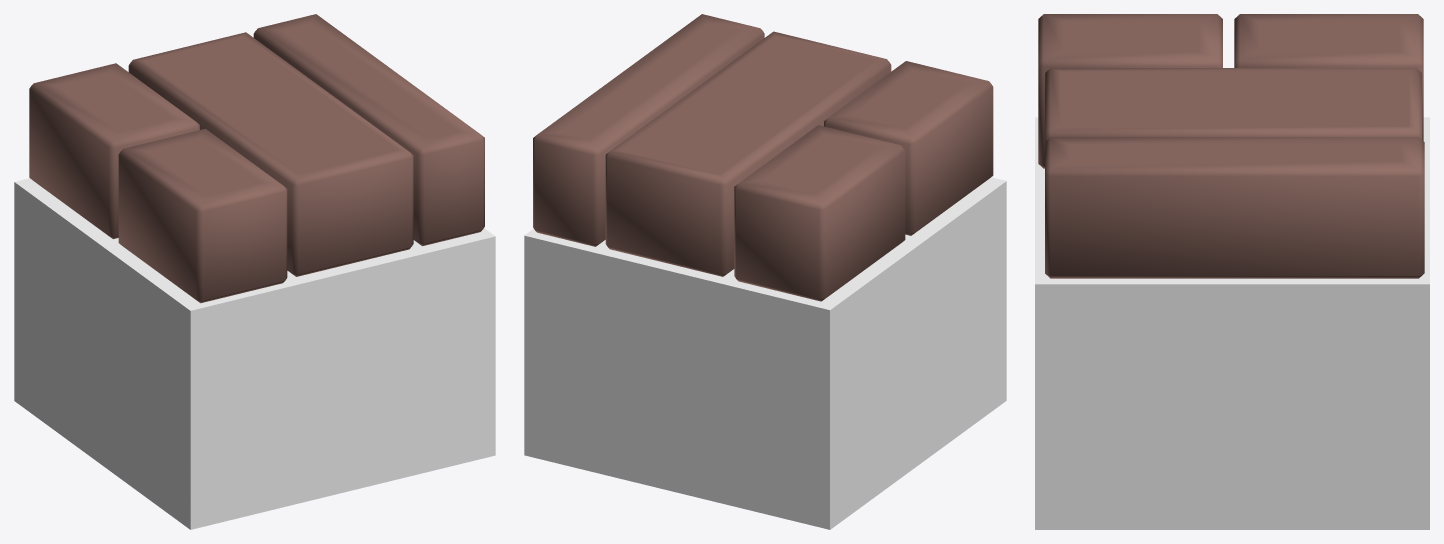
Rendered from Floor21.fbx.
The picture shows the model from 3 angles, left to right: view 1: azimuth 30°, elevation 25°; view 2: azimuth 150°, elevation 25°; view 3: azimuth 270°, elevation 25°; orthographic projection. The views are drawn at different scales.
Parts seen in each view (by area): view 1: Cube.263; view 2: Cube.263; view 3: Cube.263.
Part boxes in pixels (<box>): Cube.263: <box>14,14,495,529</box>; Cube.263: <box>524,14,1006,529</box>; Cube.263: <box>1035,14,1429,529</box>.
Bounding box in the file's own units: 100 × 99.65 × 100.
